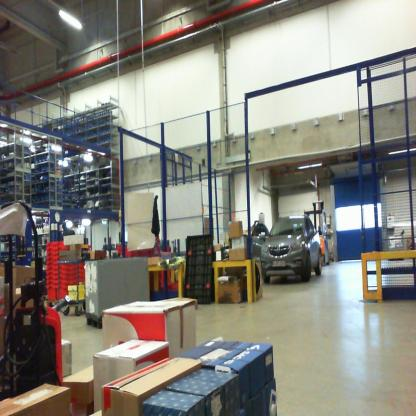forklift: (307, 200, 329, 266)
pallet: (49, 298, 84, 319)
